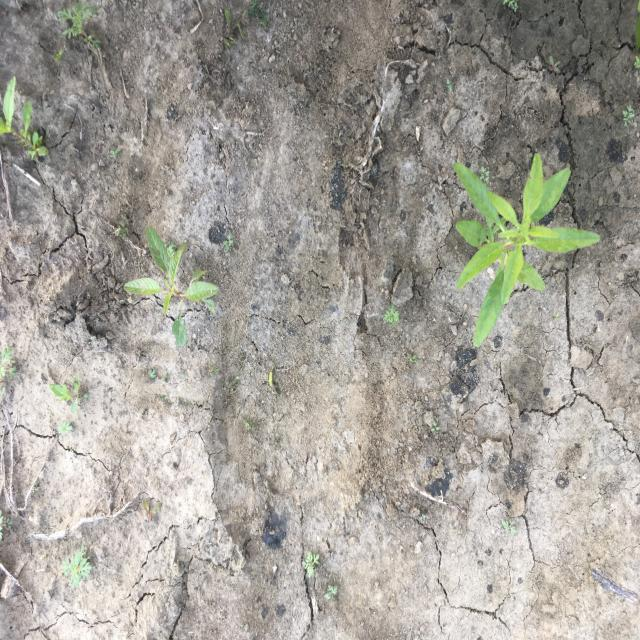Ragweed: (57, 2, 105, 54), (59, 543, 93, 592), (1, 346, 20, 382)
Waterhemp: (451, 153, 602, 347), (122, 224, 220, 349)
